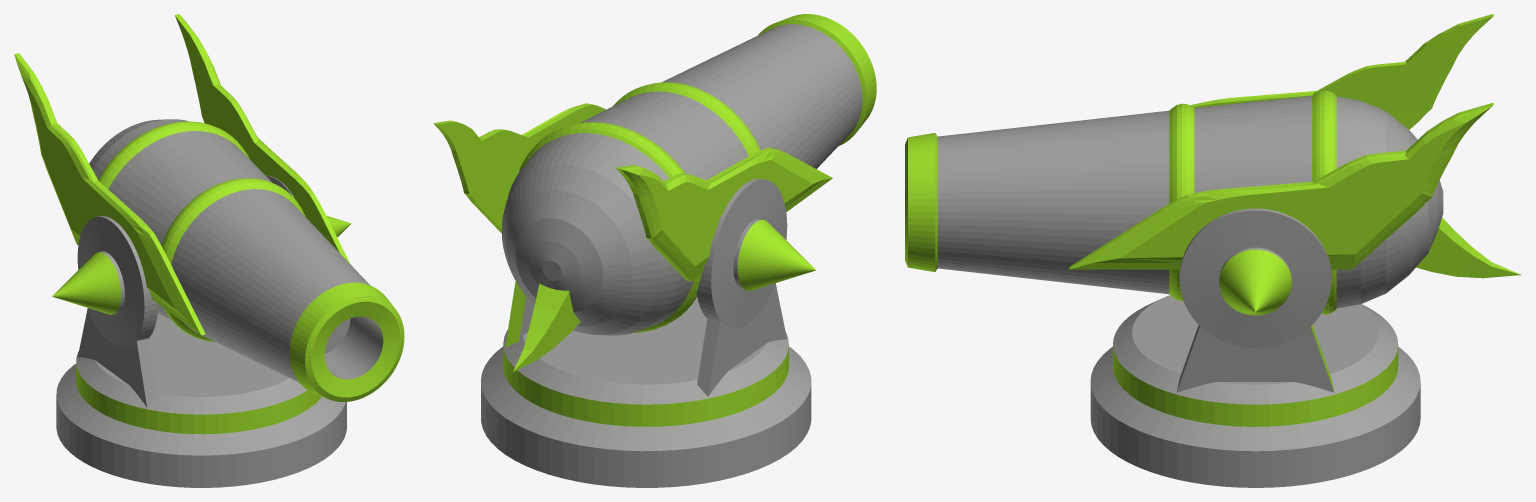
File: cannon_upgraded.fbx
3 views of the same model, side by side, from view 1: azimuth 30°, elevation 25°; view 2: azimuth 150°, elevation 25°; view 3: azimuth 270°, elevation 25° (orthographic). The views are drawn at different scales.
Parts seen in each view (by area): view 1: Circle; view 2: Circle; view 3: Circle.
Boxes of the visible parts, left/top/right/bottom form: Circle: left=14, top=14, right=404, bottom=487; Circle: left=433, top=14, right=876, bottom=487; Circle: left=905, top=14, right=1520, bottom=487.
Size of the model in its own units: 276 by 277 by 432.
Materials: 1 (1 with a texture image).
